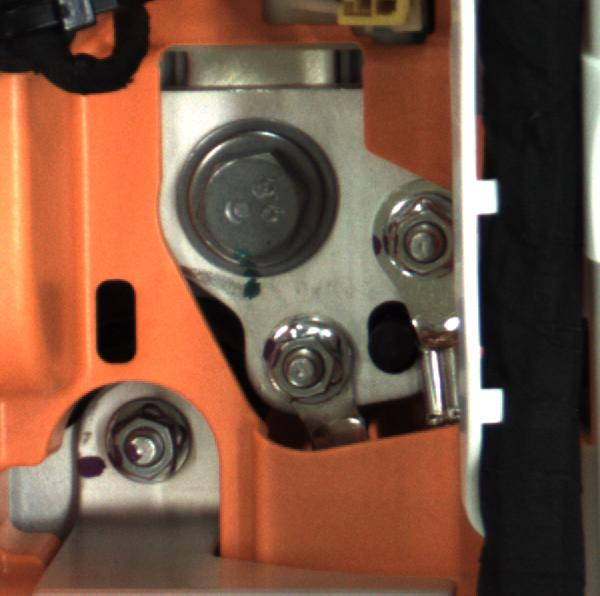nut_b: (158, 121, 340, 278)
screw_s: (256, 310, 350, 406), (102, 399, 194, 482), (376, 193, 450, 277)
